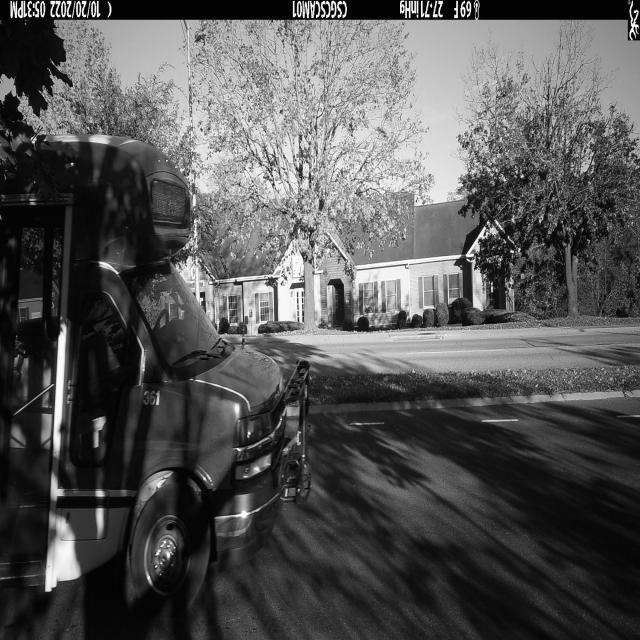Bus- Small: (0, 123, 324, 627)
